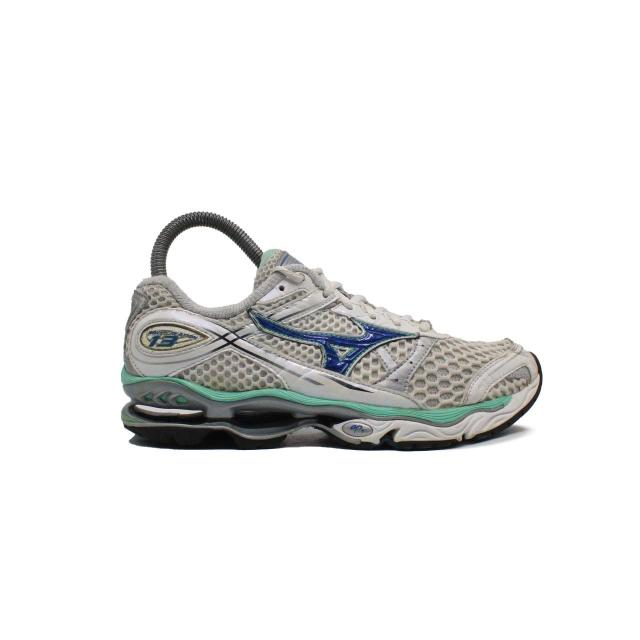heel: (117, 277, 160, 377)
midsole: (119, 358, 542, 451)
uppersole: (148, 248, 533, 403)
